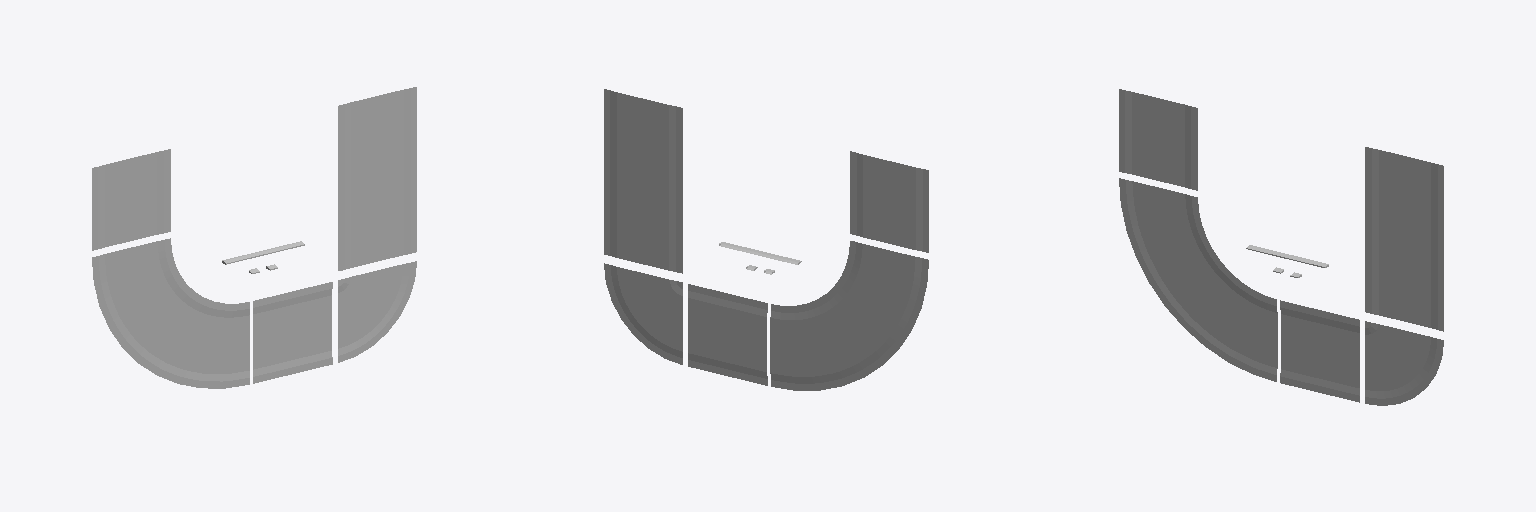
Rendered from modular_track_roads.obj.
3 renders of one model, left to right at view 1: azimuth 30°, elevation 25°; view 2: azimuth 150°, elevation 25°; view 3: azimuth 330°, elevation 25°, orthographic.
Visible parts, largest first — view 1: obj2, obj4, obj5, obj3, obj1; view 2: obj2, obj4, obj5, obj3, obj1; view 3: obj2, obj4, obj5, obj3, obj1.
Part boxes in pixels (x1,y1,x2,y2): obj2: (92, 238, 249, 388); obj4: (338, 87, 416, 270); obj5: (253, 282, 332, 383); obj3: (92, 149, 170, 250); obj1: (338, 261, 416, 362); obj2: (770, 241, 928, 390); obj4: (604, 89, 682, 273); obj5: (688, 284, 767, 385); obj3: (850, 151, 928, 252); obj1: (604, 263, 682, 364); obj2: (1119, 178, 1277, 381); obj4: (1365, 147, 1443, 331); obj5: (1280, 300, 1359, 402); obj3: (1119, 89, 1197, 190); obj1: (1365, 321, 1443, 405).
Size of the model in its own units: 61.63 by 46.57 by 1.2.